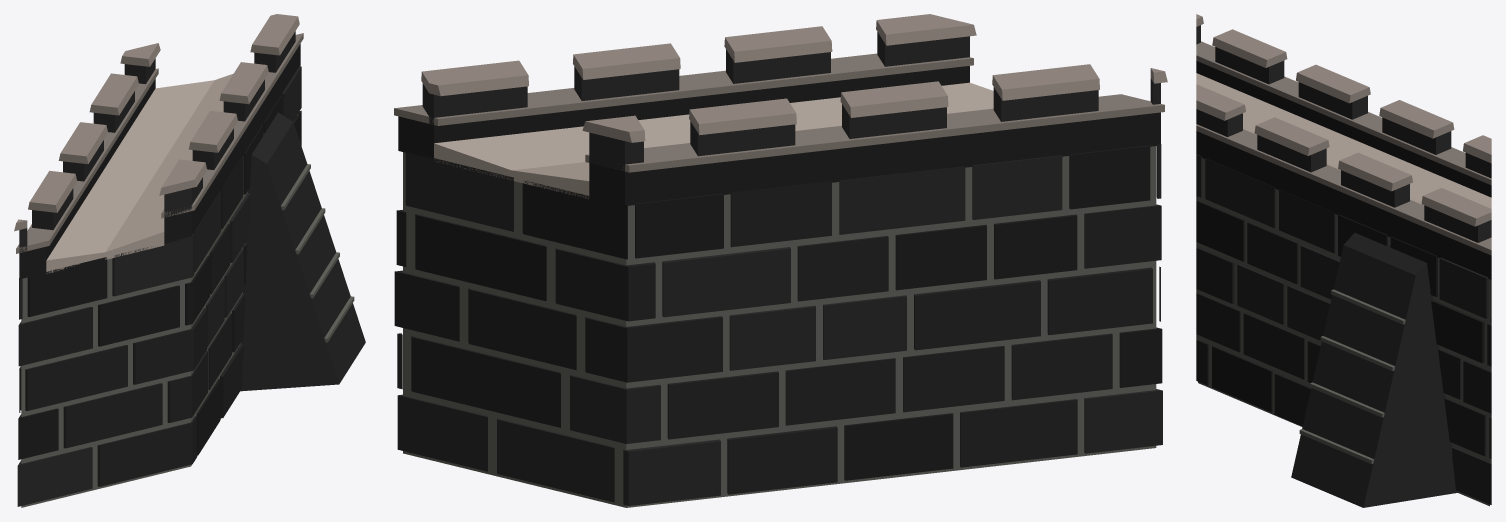
Rendered from AraWall07.glb.
3 renders of one model, left to right at view 1: azimuth 30°, elevation 25°; view 2: azimuth 150°, elevation 25°; view 3: azimuth 270°, elevation 25°, orthographic. The views are drawn at different scales.
Parts seen in each view (by area): view 1: AraWall07_mortar; view 2: AraWall07_mortar; view 3: AraWall07_mortar.
Part boxes in pixels (box(x1,y1,x2,y2)): AraWall07_mortar: box(14, 14, 365, 507); AraWall07_mortar: box(394, 14, 1167, 507); AraWall07_mortar: box(1196, 14, 1491, 507).
Bounding box in the file's own units: 5.95 × 3.72 × 3.5.
